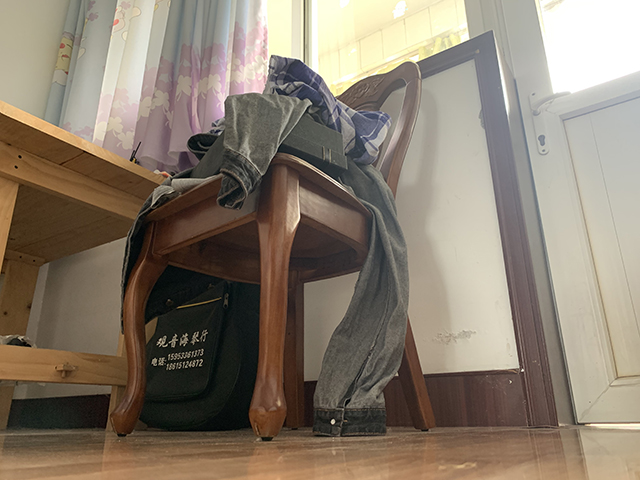stool: (109, 60, 439, 442)
table: (1, 99, 169, 431)
